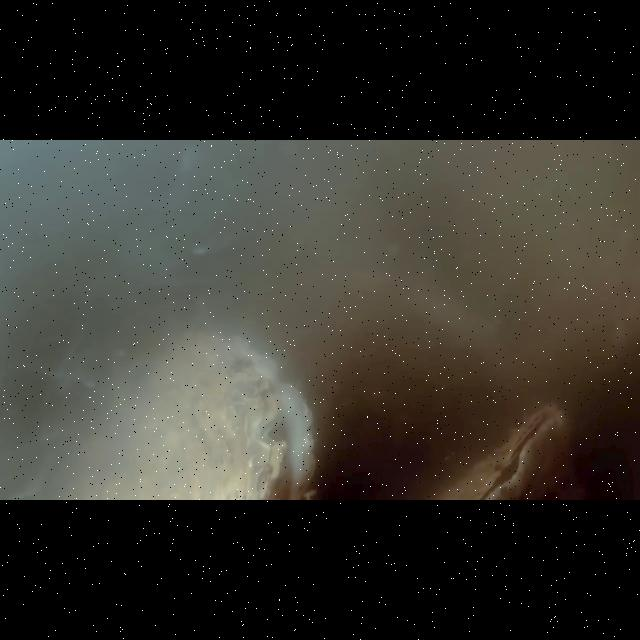Oyster-Open: (47, 330, 321, 496), (432, 404, 573, 495)
